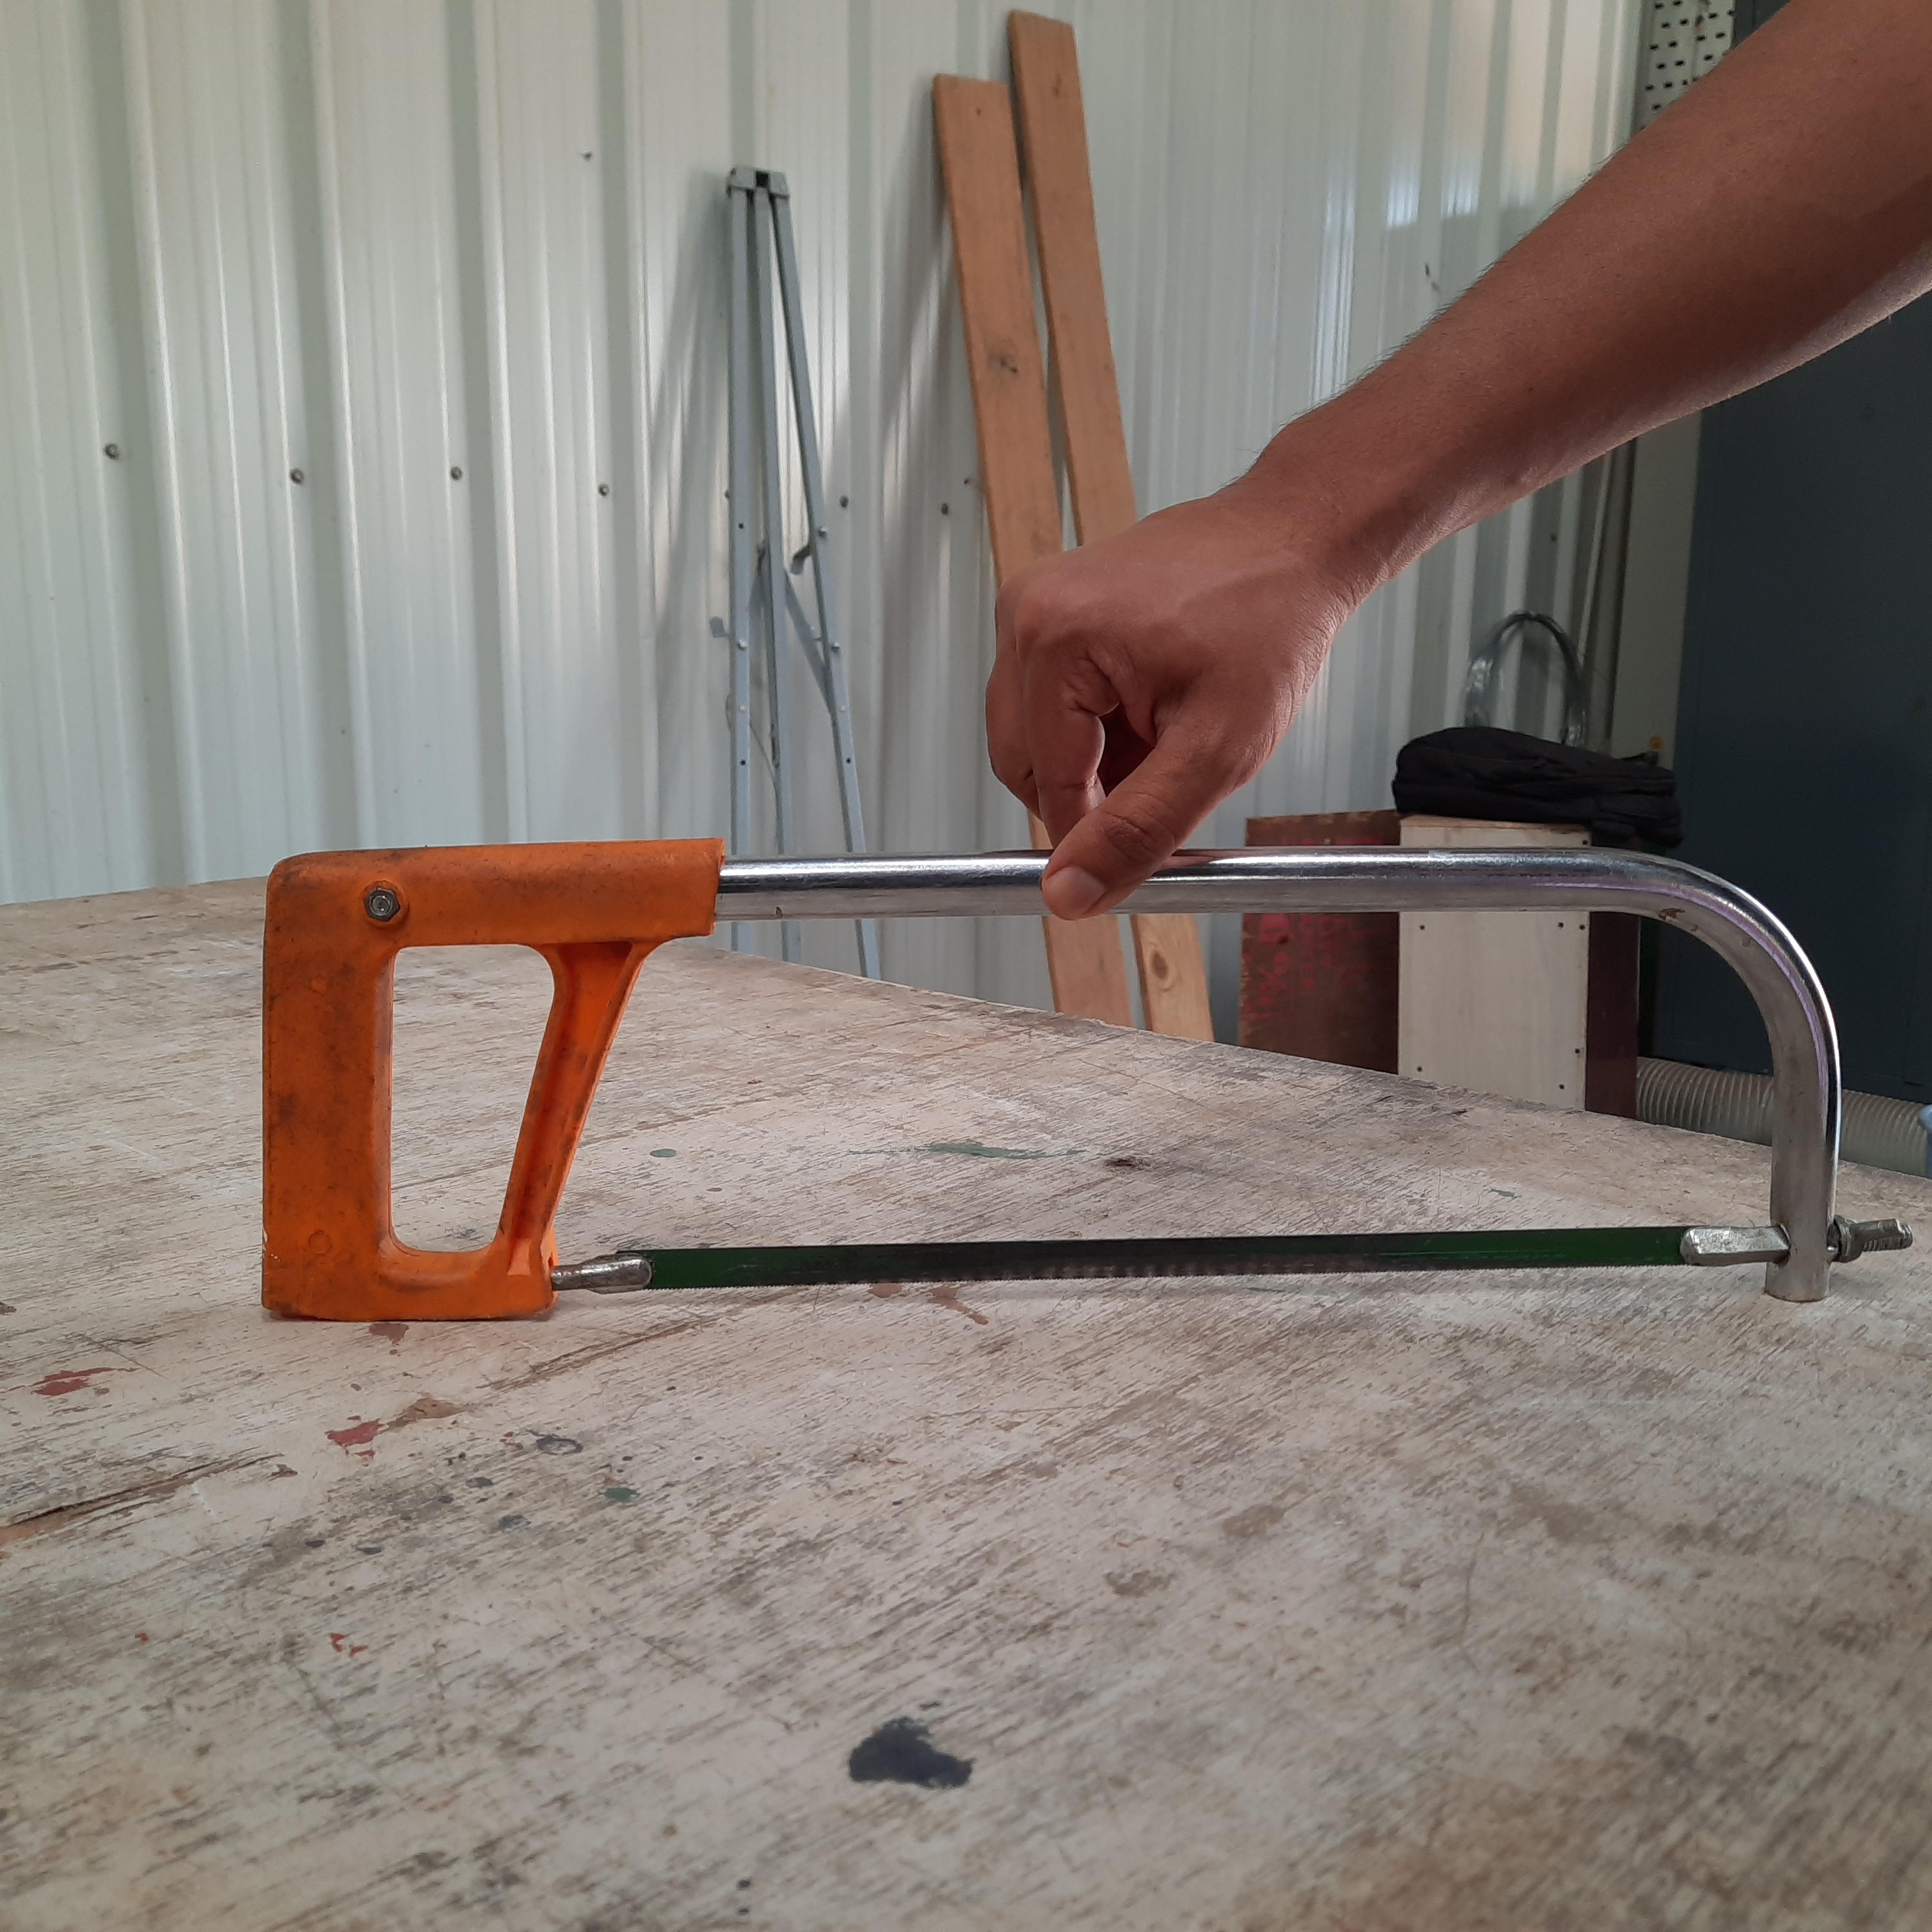Hexaframe: (218, 807, 1911, 1336)
